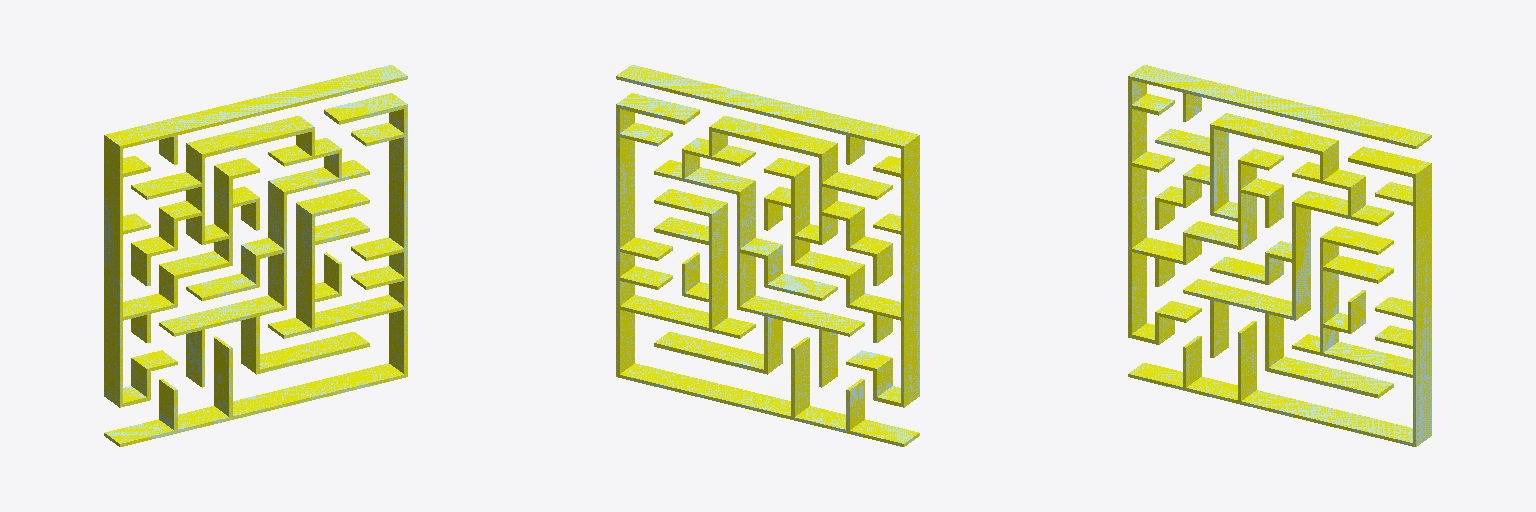
File: UniqueSolutionMaze_env_blender.obj
The picture shows the model from 3 angles: view 1: azimuth 30°, elevation 25°; view 2: azimuth 150°, elevation 25°; view 3: azimuth 330°, elevation 25°; orthographic projection.
Visible parts, largest first — view 1: instance_0_ID3, instance_0.001_ID13, instance_0.024_ID151, instance_0.016_ID103, instance_0.018_ID115, instance_0.019_ID121, instance_0.025_ID157; view 2: instance_0_ID3, instance_0.001_ID13, instance_0.012_ID79, instance_0.006_ID43, instance_0.007_ID49, instance_0.008_ID55, instance_0.011_ID73; view 3: instance_0_ID3, instance_0.001_ID13, instance_0.024_ID151, instance_0.016_ID103, instance_0.018_ID115, instance_0.019_ID121, instance_0.025_ID157.
Boxes of the visible parts, <box> form: instance_0_ID3: <box>104,65,406,407</box>; instance_0.001_ID13: <box>104,93,406,446</box>; instance_0.024_ID151: <box>120,104,407,446</box>; instance_0.016_ID103: <box>123,127,314,342</box>; instance_0.018_ID115: <box>174,171,369,387</box>; instance_0.019_ID121: <box>120,76,407,407</box>; instance_0.025_ID157: <box>312,200,369,328</box>; instance_0_ID3: <box>617,65,919,407</box>; instance_0.001_ID13: <box>617,93,919,446</box>; instance_0.012_ID79: <box>616,104,903,446</box>; instance_0.006_ID43: <box>709,127,900,342</box>; instance_0.007_ID49: <box>654,171,849,387</box>; instance_0.008_ID55: <box>616,76,903,407</box>; instance_0.011_ID73: <box>654,200,711,328</box>; instance_0_ID3: <box>1129,65,1431,398</box>; instance_0.001_ID13: <box>1129,146,1431,446</box>; instance_0.024_ID151: <box>1128,158,1415,446</box>; instance_0.016_ID103: <box>1132,124,1322,286</box>; instance_0.018_ID115: <box>1183,202,1377,397</box>; instance_0.019_ID121: <box>1128,76,1415,344</box>; instance_0.025_ID157: <box>1320,238,1377,352</box>.
Size of the model in its own units: 100 by 100 by 9.38.